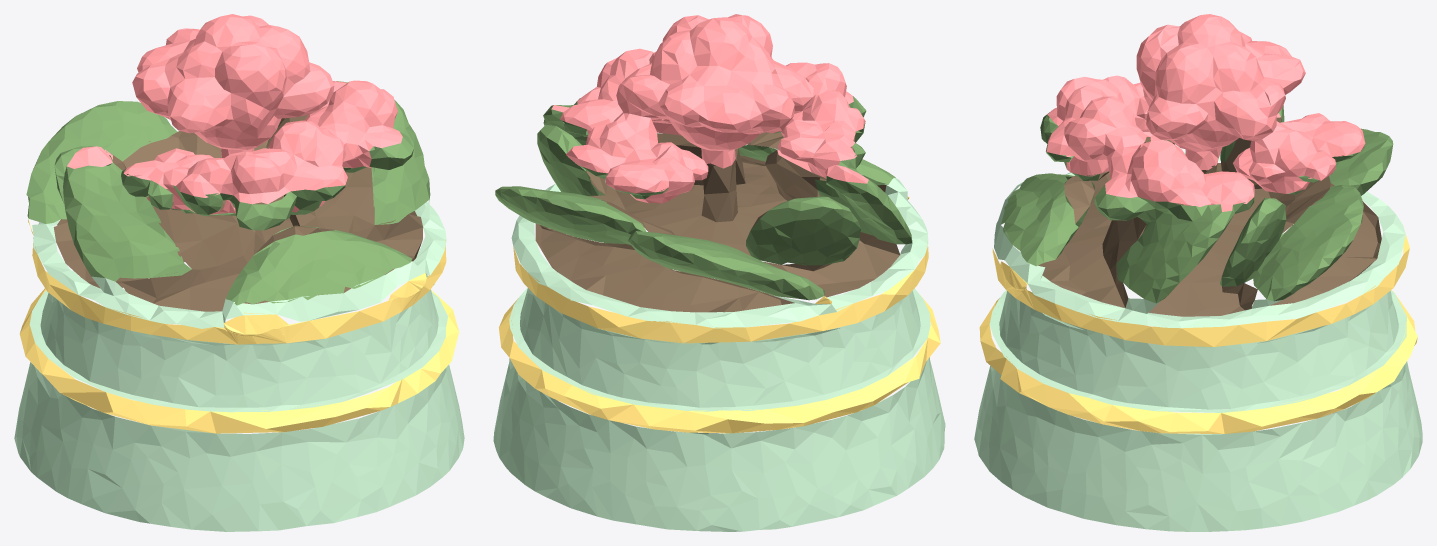
Rendered from meshy-garden-peony.glb.
The picture shows the model from 3 angles, left to right: view 1: azimuth 30°, elevation 25°; view 2: azimuth 150°, elevation 25°; view 3: azimuth 270°, elevation 25°; orthographic projection.
Visible parts, largest first — view 1: mesh_node; view 2: mesh_node; view 3: mesh_node.
Part boxes in pixels (x1,y1,x2,y2): mesh_node: (14,14,464,531); mesh_node: (493,14,945,531); mesh_node: (974,14,1422,531).
Size of the model in its own units: 1.85 by 1.9 by 1.85.
